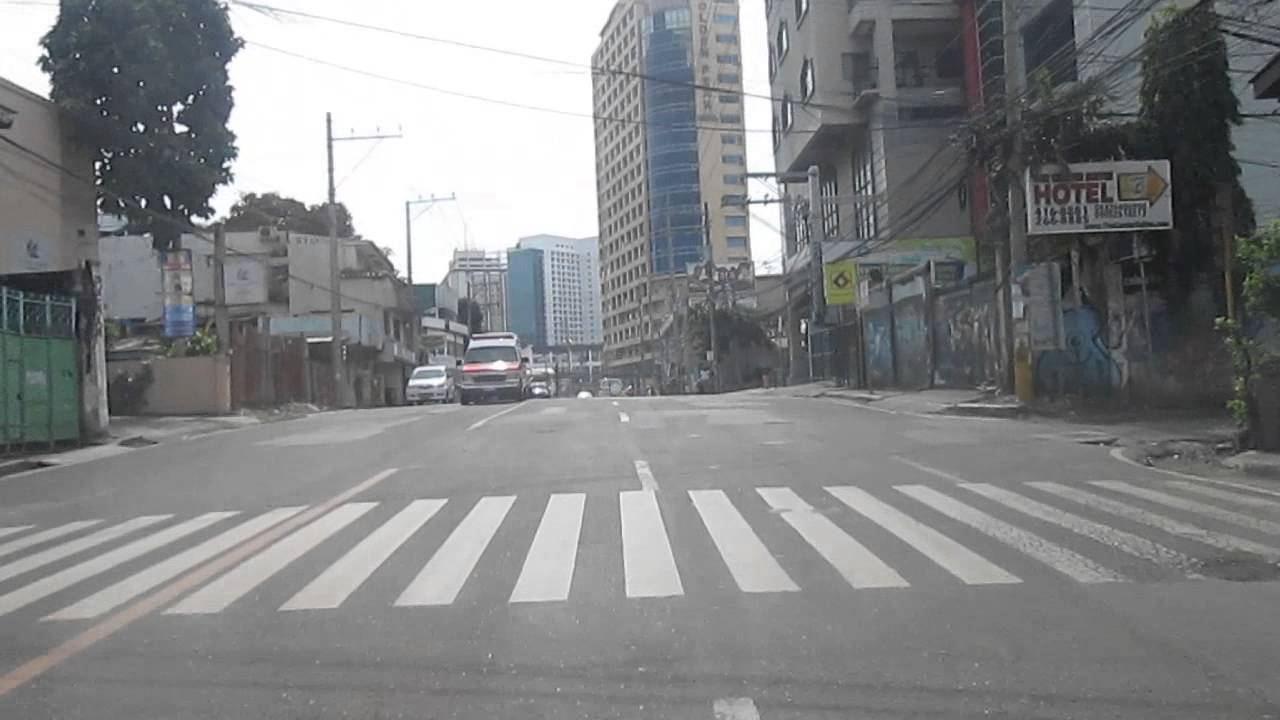car: (460, 334, 523, 401), (402, 367, 455, 403)
pedestrian lane: (1, 482, 1280, 620)
pole: (1001, 6, 1036, 407), (323, 112, 347, 406), (209, 224, 228, 355), (808, 163, 822, 312)
tree: (43, 1, 233, 250)
